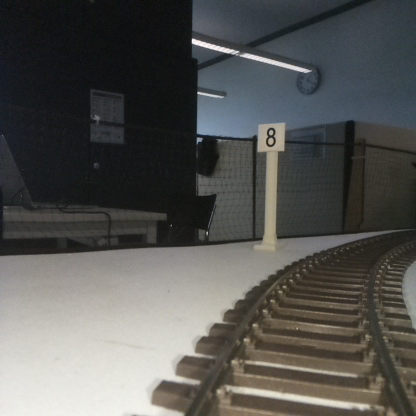white-info-8: (258, 123, 284, 251)
